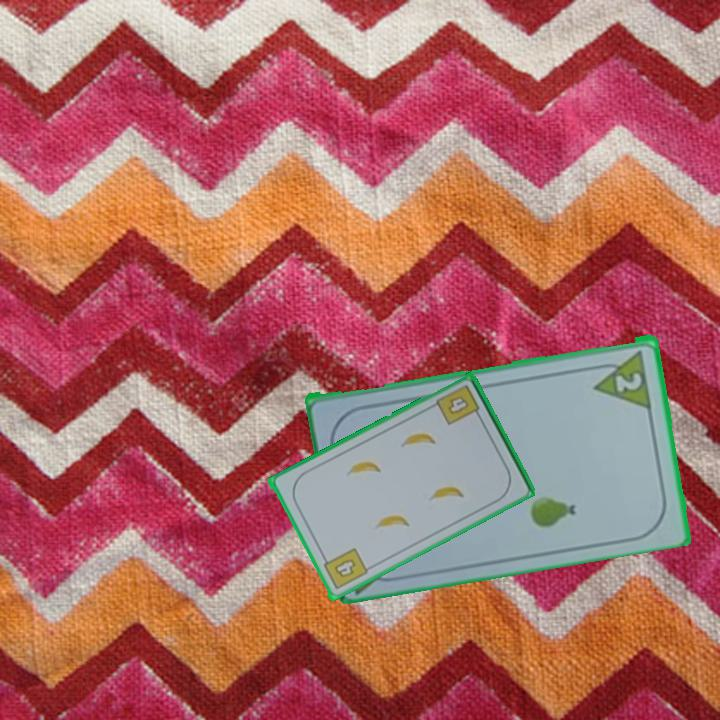2p: (588, 346, 655, 410)
4b: (318, 545, 370, 593), (432, 381, 484, 428)
